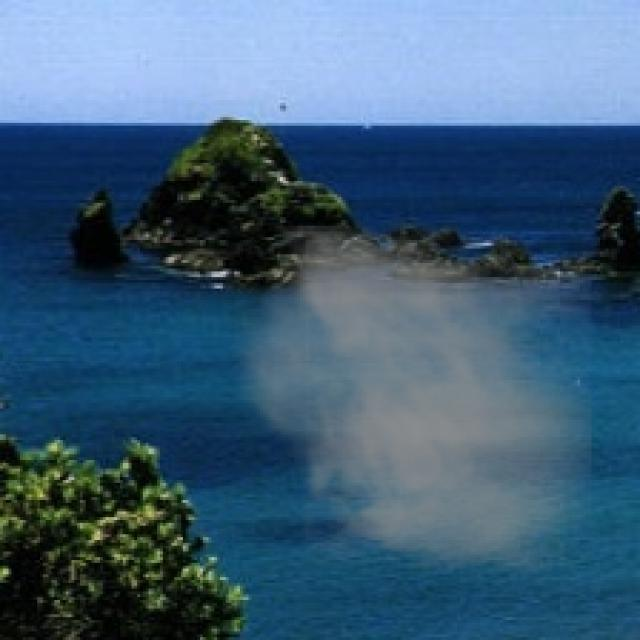Smoke: (223, 226, 592, 574)
